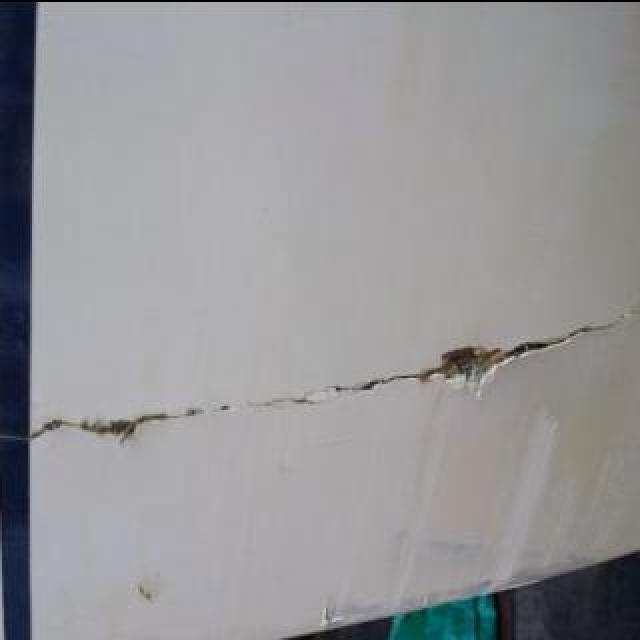crack: (15, 295, 640, 447)
